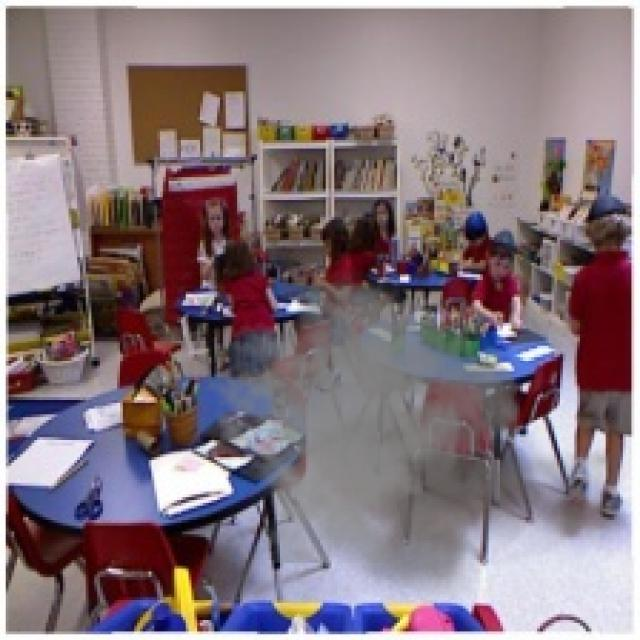smoke: (206, 257, 631, 606)
